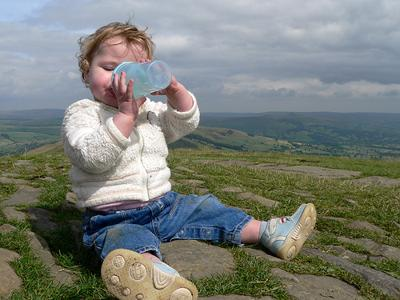person: (60, 13, 315, 299)
